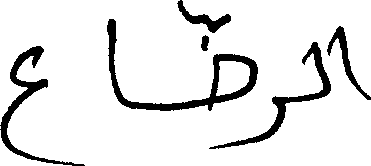ا: (336, 24, 369, 100), (104, 16, 123, 106)
ر: (258, 93, 284, 142)
ض: (192, 12, 256, 112)
ع: (0, 43, 48, 163)
ل: (311, 35, 332, 100)
